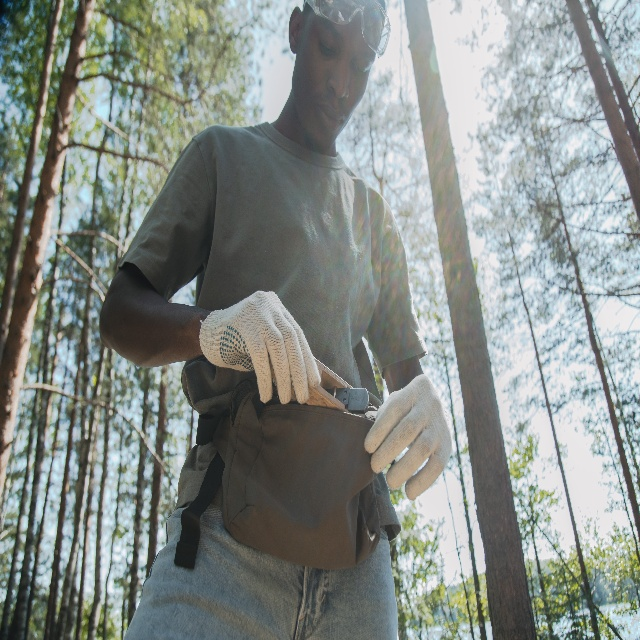Gafas: (314, 0, 395, 52)
Guantes: (201, 291, 318, 403), (364, 381, 452, 496)
